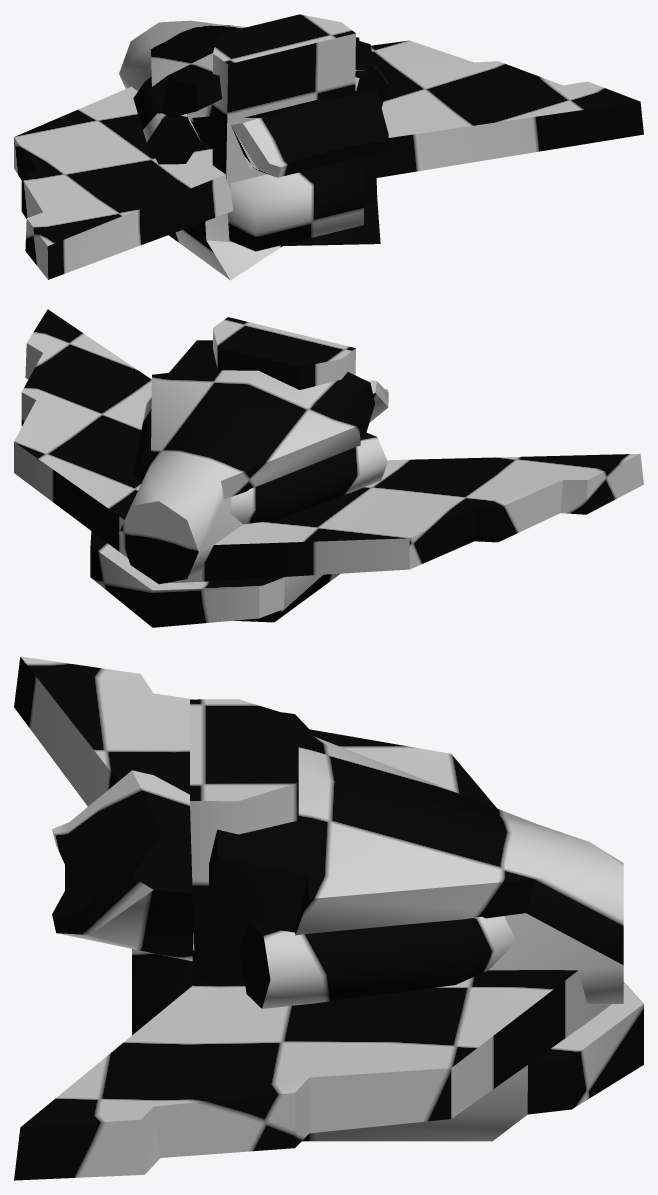
The model's file is drone_goliath_x.obj.
3 renders of one model, top to bottom at view 1: azimuth 30°, elevation 25°; view 2: azimuth 150°, elevation 25°; view 3: azimuth 270°, elevation 25°, orthographic. The views are drawn at different scales.
Parts seen in each view (by area): view 1: goliath_x_dronedesign_legend_lowpoly; view 2: goliath_x_dronedesign_legend_lowpoly; view 3: goliath_x_dronedesign_legend_lowpoly.
Boxes of the visible parts, x1,y1,x2,y2 form: goliath_x_dronedesign_legend_lowpoly: (14, 14, 643, 280); goliath_x_dronedesign_legend_lowpoly: (14, 309, 643, 627); goliath_x_dronedesign_legend_lowpoly: (14, 656, 643, 1180).
Size of the model in its own units: 40.8 by 13.35 by 22.95.
Materials: 1 (1 with a texture image).
